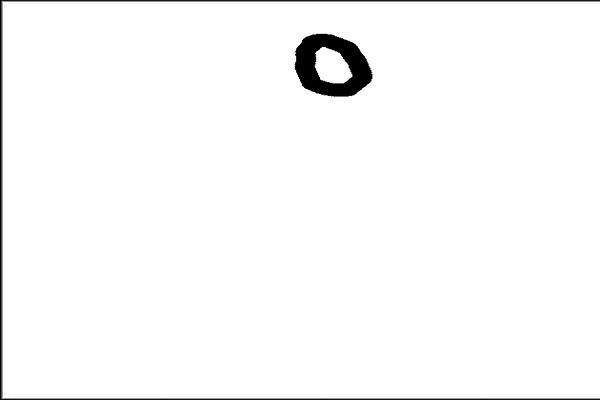O: (272, 26, 386, 101)
